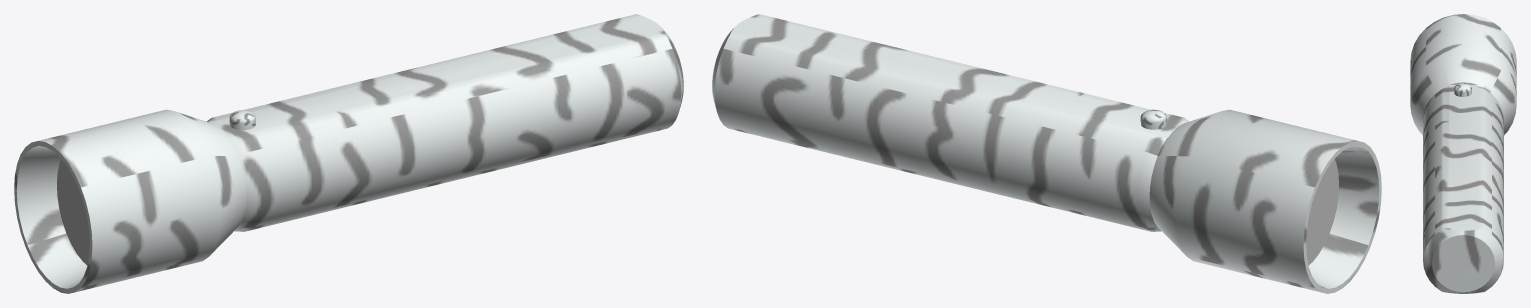
Rendered from item-flash-on-my-light-till-i-illuminate-an-area.glb.
3 views of the same model, side by side, from view 1: azimuth 30°, elevation 25°; view 2: azimuth 150°, elevation 25°; view 3: azimuth 270°, elevation 25° (orthographic). The views are drawn at different scales.
Bounding box in the file's own units: 6.33 × 1.41 × 1.41.
2 materials, 1 textured.
